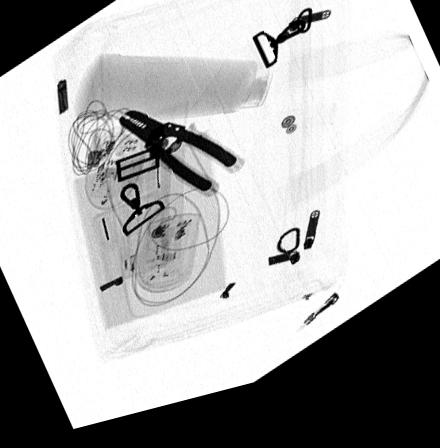Pliers: (116, 115, 240, 201)
